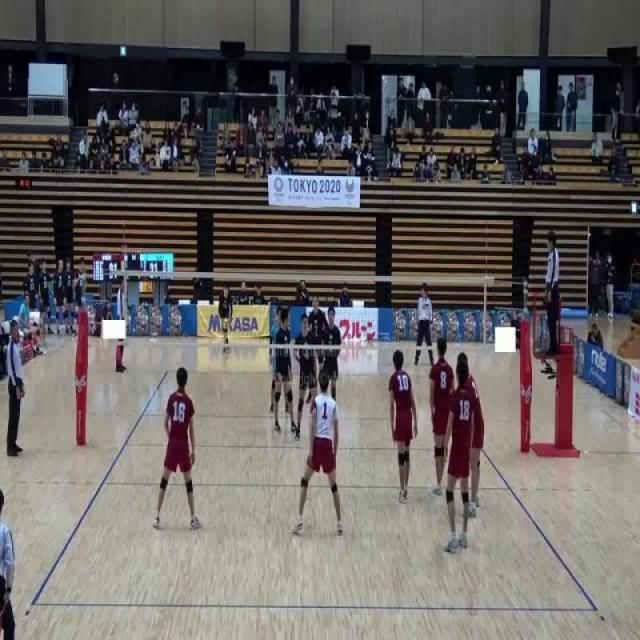volleyball: (222, 317, 229, 329)
